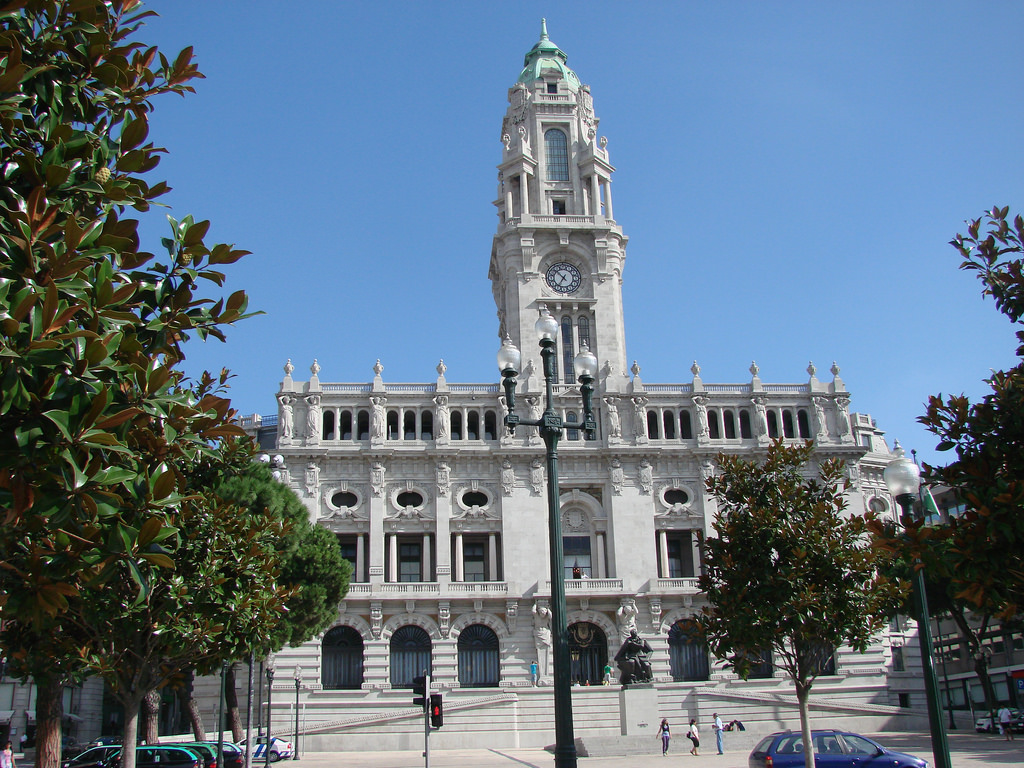camara: (190, 17, 932, 730)
